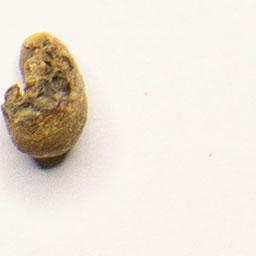defect: (1, 30, 90, 161)
